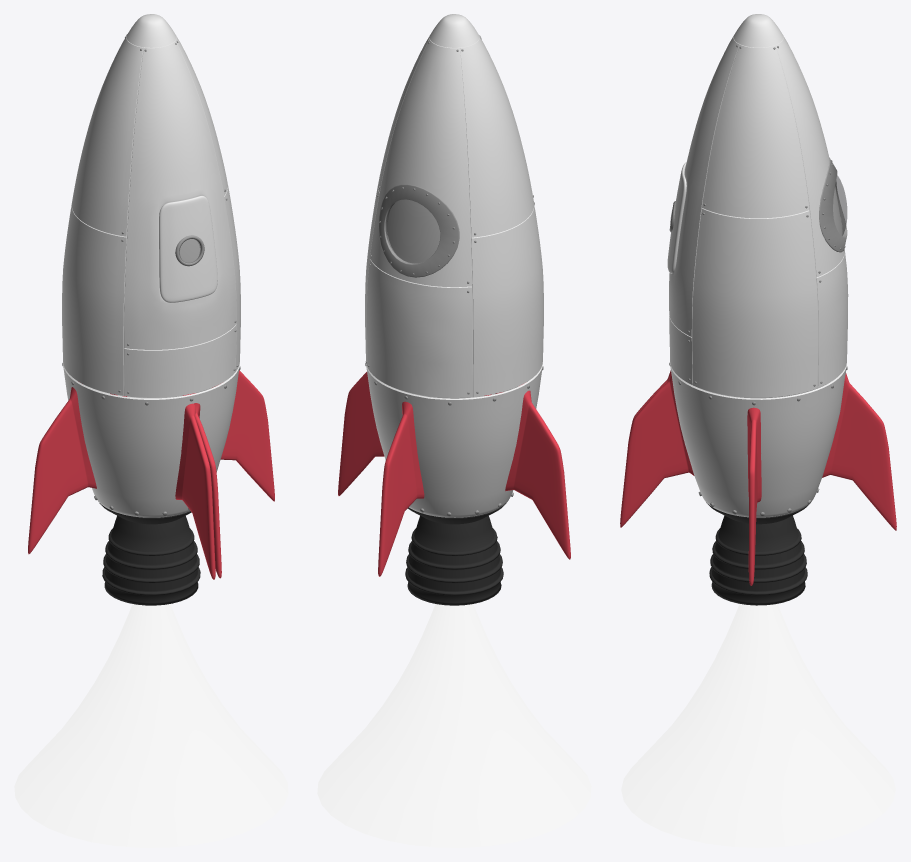
The model's file is rocket.glb.
The picture shows the model from 3 angles, left to right: view 1: azimuth 30°, elevation 25°; view 2: azimuth 150°, elevation 25°; view 3: azimuth 270°, elevation 25°; orthographic projection.
Parts seen in each view (by area): view 1: Rocket body, Fume, Rocket fin, Engine, Rocket fin base instanced; view 2: Rocket body, Fume, Rocket fin, Engine, Rocket window frame, Rocket window; view 3: Rocket body, Fume, Rocket fin, Engine, Rocket fin base instanced, Rocket window frame, Rocket window.
Boxes of the visible parts, <box> form: Rocket body: <box>62,14,240,517</box>; Fume: <box>14,604,288,847</box>; Rocket fin: <box>28,370,274,579</box>; Engine: <box>99,503,200,605</box>; Rocket fin base instanced: <box>193,393,221,578</box>; Rocket body: <box>365,14,543,517</box>; Fume: <box>317,604,591,847</box>; Rocket fin: <box>338,372,570,576</box>; Engine: <box>405,503,506,605</box>; Rocket window frame: <box>378,184,459,277</box>; Rocket window: <box>386,200,439,262</box>; Rocket body: <box>667,14,848,517</box>; Fume: <box>621,604,895,847</box>; Rocket fin: <box>620,370,896,585</box>; Engine: <box>706,502,808,605</box>; Rocket fin base instanced: <box>620,372,694,527</box>; Rocket window frame: <box>819,157,847,252</box>; Rocket window: <box>833,175,846,235</box>.
Bounding box in the file's own units: 2.5 × 7.72 × 2.5.
